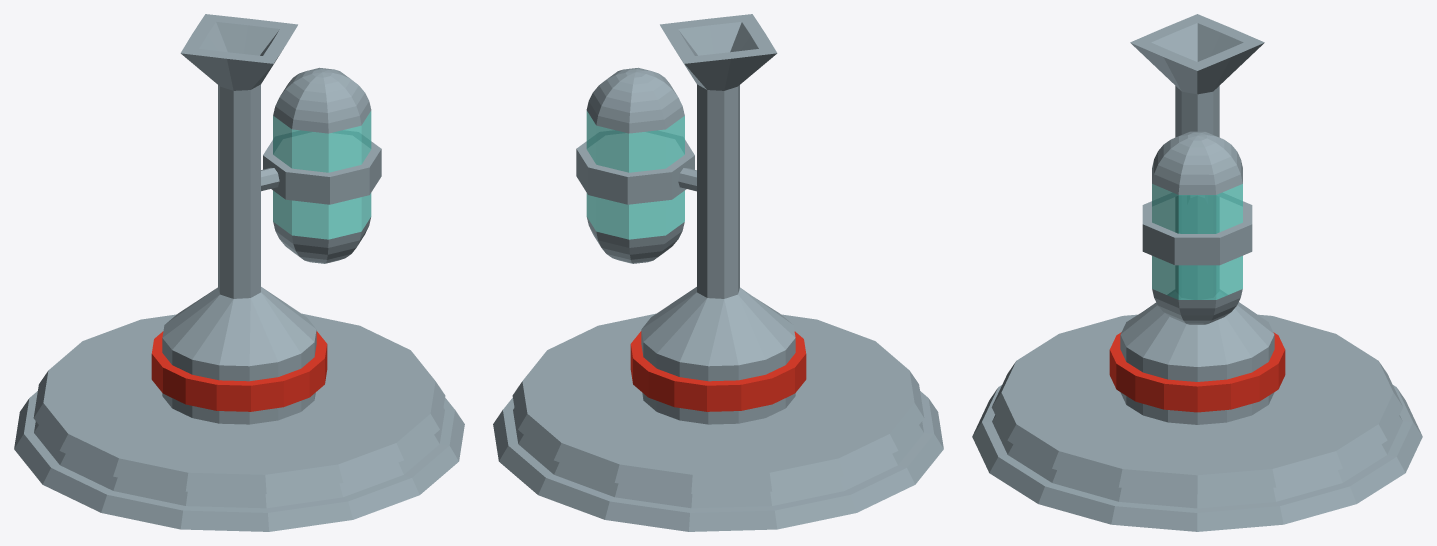
Rendered from training.glb.
The picture shows the model from 3 angles, left to right: view 1: azimuth 30°, elevation 25°; view 2: azimuth 150°, elevation 25°; view 3: azimuth 270°, elevation 25°; orthographic projection.
Visible parts, largest first — view 1: CollectorBase.001, Circle.004, Sphere, Circle.005; view 2: CollectorBase.001, Circle.004, Sphere, Circle.005; view 3: CollectorBase.001, Circle.004, Sphere, Circle.005.
Boxes of the visible parts, left/top/right/bottom form: CollectorBase.001: left=14, top=313, right=464, bottom=531; Circle.004: left=162, top=14, right=316, bottom=424; Sphere: left=261, top=67, right=381, bottom=263; Circle.005: left=151, top=331, right=327, bottom=411; CollectorBase.001: left=493, top=313, right=943, bottom=531; Circle.004: left=641, top=14, right=795, bottom=424; Sphere: left=576, top=67, right=696, bottom=263; Circle.005: left=630, top=331, right=806, bottom=411; CollectorBase.001: left=972, top=314, right=1422, bottom=531; Circle.004: left=1120, top=14, right=1274, bottom=424; Sphere: left=1142, top=131, right=1252, bottom=324; Circle.005: left=1109, top=332, right=1285, bottom=412.
Size of the model in its own units: 1.28 by 1.24 by 1.28.
